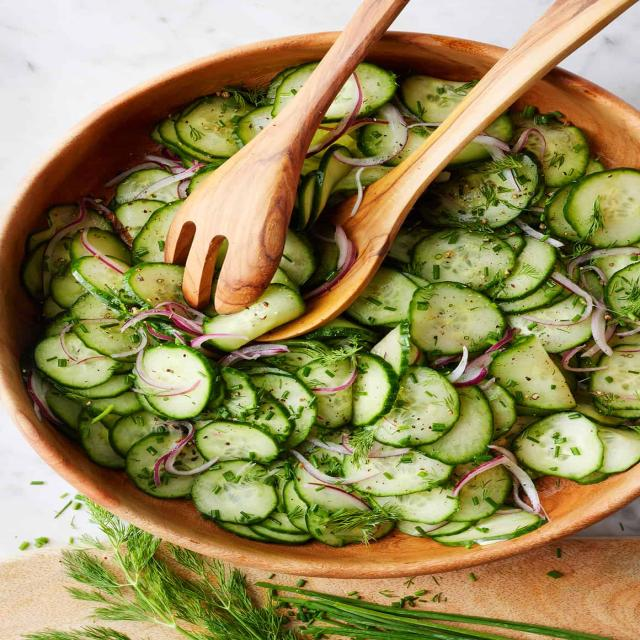Pickle: (412, 229, 555, 300), (419, 145, 540, 228), (408, 281, 506, 355), (375, 365, 461, 448), (203, 284, 305, 351), (489, 335, 576, 410), (512, 411, 604, 480), (133, 344, 216, 420), (417, 385, 494, 465), (564, 168, 640, 248), (513, 110, 590, 188), (191, 460, 279, 524), (175, 95, 256, 161), (124, 428, 196, 499), (343, 450, 454, 496), (506, 294, 592, 353), (251, 372, 317, 447), (35, 332, 119, 389), (324, 62, 398, 121), (345, 268, 419, 327), (433, 511, 545, 546), (294, 464, 371, 512), (590, 345, 640, 418), (401, 75, 478, 122), (194, 420, 279, 462), (352, 352, 399, 426), (449, 466, 512, 521), (72, 255, 135, 310), (131, 199, 185, 263), (310, 145, 354, 223), (370, 486, 459, 524), (123, 262, 187, 308), (371, 322, 422, 376), (109, 410, 166, 457), (79, 411, 124, 469), (72, 319, 142, 356), (273, 62, 319, 114), (245, 392, 293, 441), (114, 169, 172, 206), (279, 230, 317, 286), (604, 262, 640, 321), (598, 425, 640, 474), (114, 199, 166, 238), (221, 368, 258, 419), (51, 264, 88, 309), (307, 505, 347, 546), (235, 105, 273, 144), (315, 388, 352, 428), (70, 294, 117, 320), (251, 525, 312, 545), (590, 255, 640, 278), (172, 442, 207, 471), (140, 181, 180, 202), (485, 114, 513, 141), (452, 144, 489, 163)
